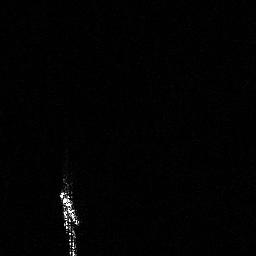ship: (55, 172, 83, 256)
